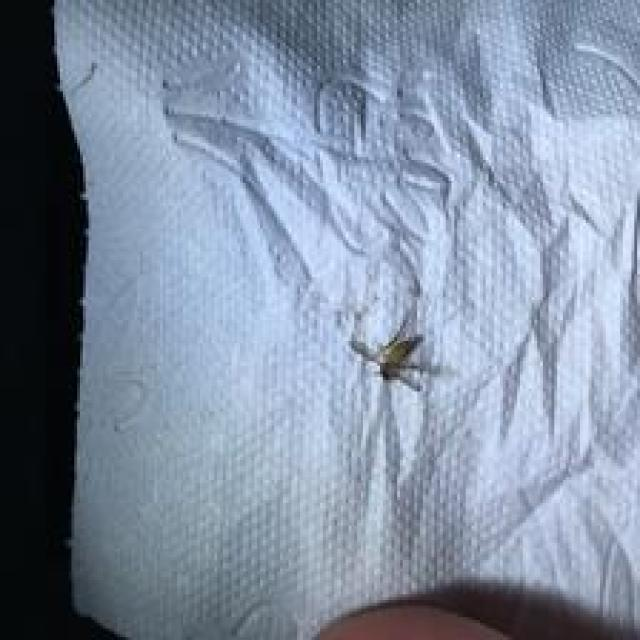Culex: (347, 314, 436, 394)
